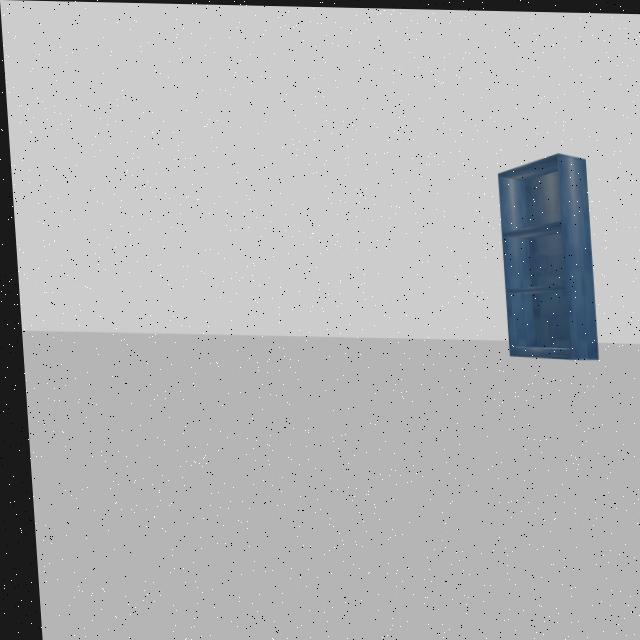shelf: (489, 140, 608, 371)
